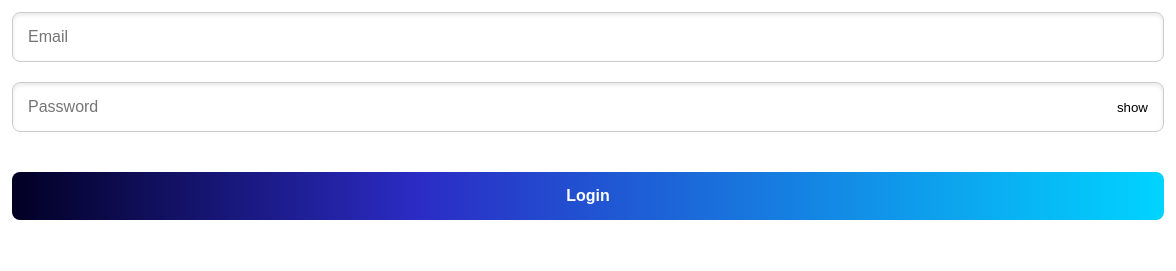
Test: LoginForm › shows error messages for invalid email format and required fields
Click the button "Login" at (588, 196), box 12,172 -> 1164,220
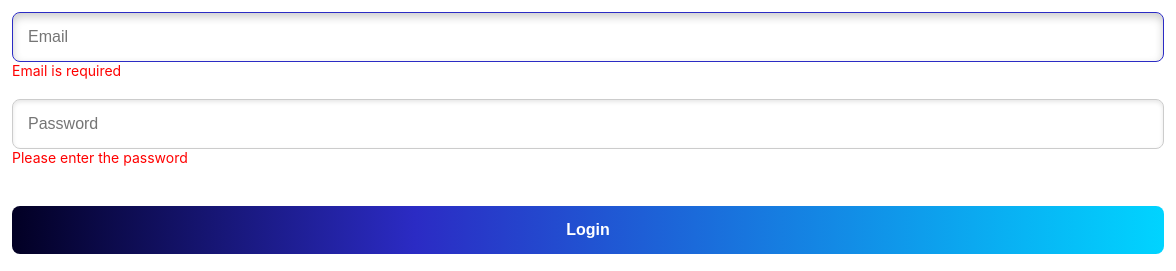
Now the text "Email is required" is shown, box 12,62 -> 121,79
Now the text "Please enter the password" is shown, box 12,149 -> 188,166
Type "invalid-email" into the field with placeholder "Email" at (588, 37), box 12,12 -> 1164,62
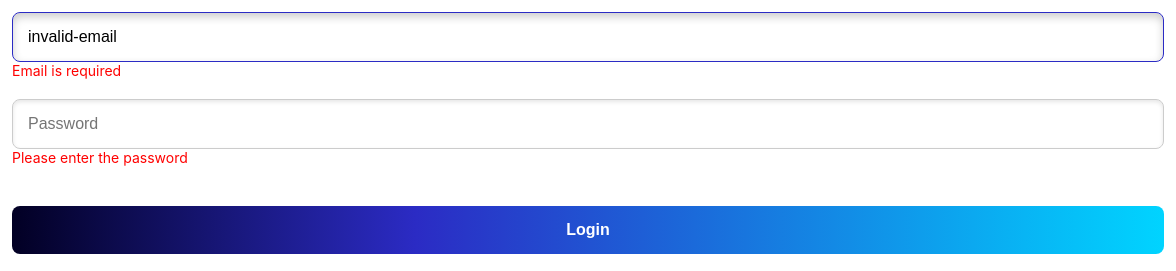
Click the button "Login" at (588, 230), box 12,206 -> 1164,254
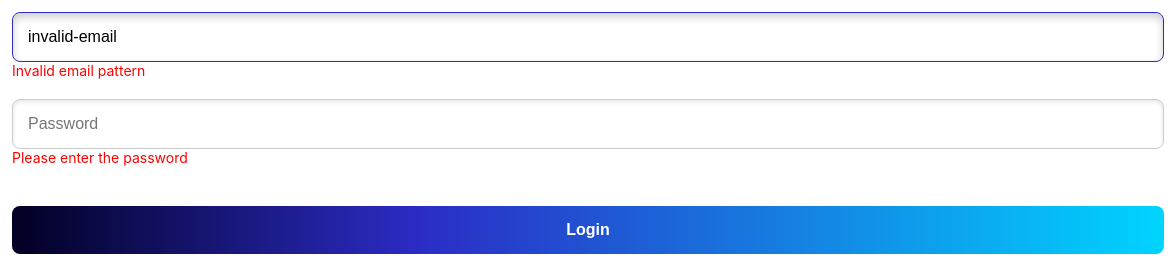
Now the text "Invalid email pattern" is shown, box 12,62 -> 145,79
